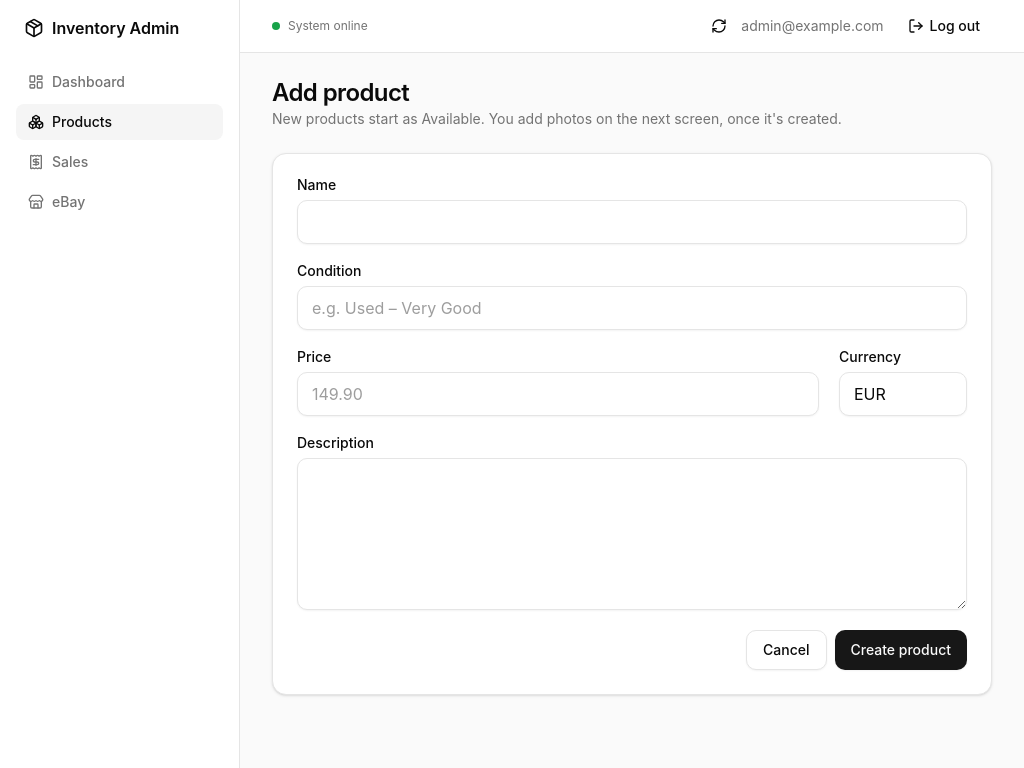
Add product › maps server-side validation errors onto the matching field
Type "Leica" into the field labelled "Name".
click(632, 222); type("Leica")  # box [297,200,967,244]
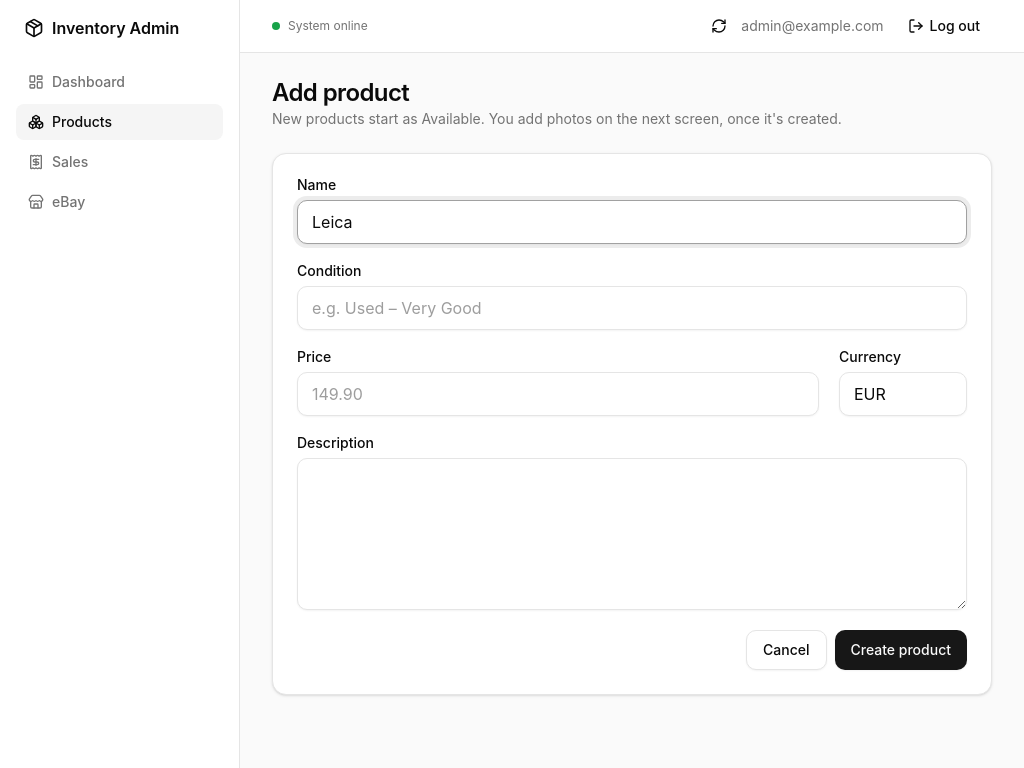
Type "10" into the field labelled "Price".
click(558, 394); type("10")  # box [297,372,819,416]
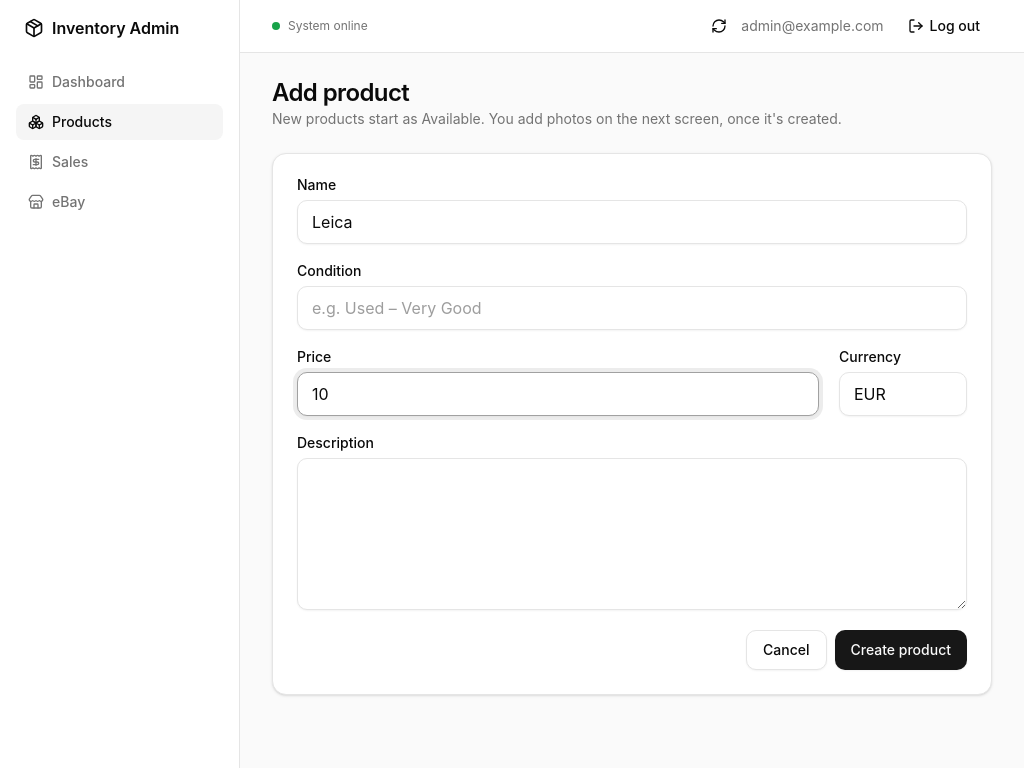
Click the button "Create product".
click(901, 650)  # box [834,630,967,670]
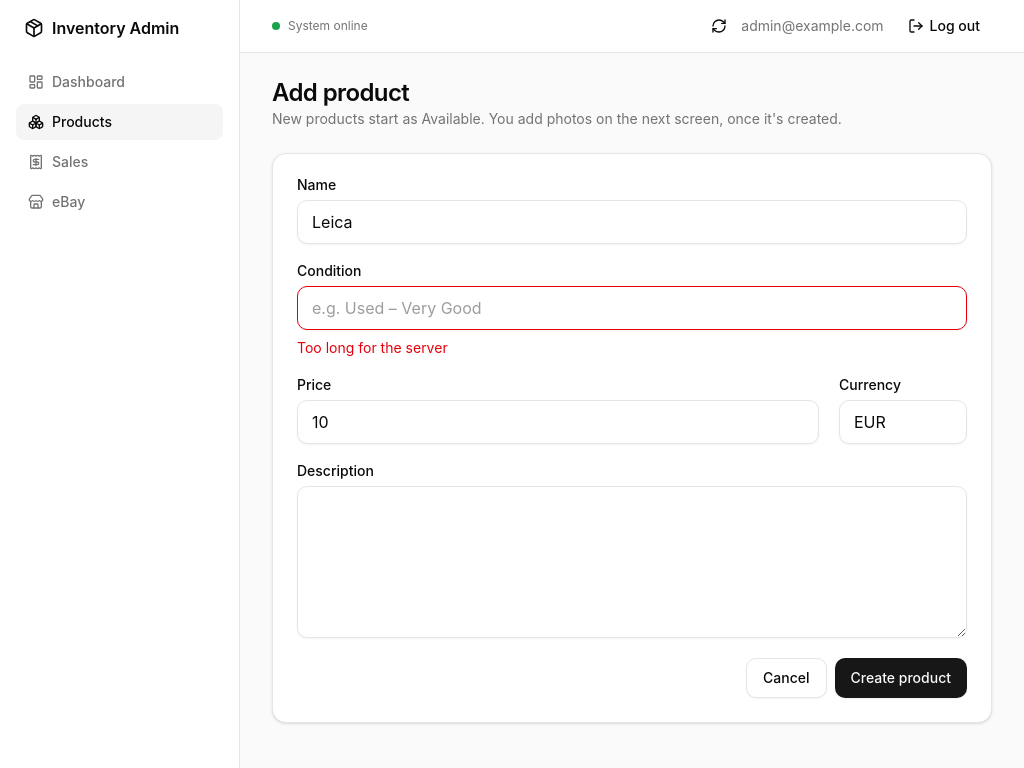
Result: the text "Too long for the server" is shown at [297,339,448,356]
